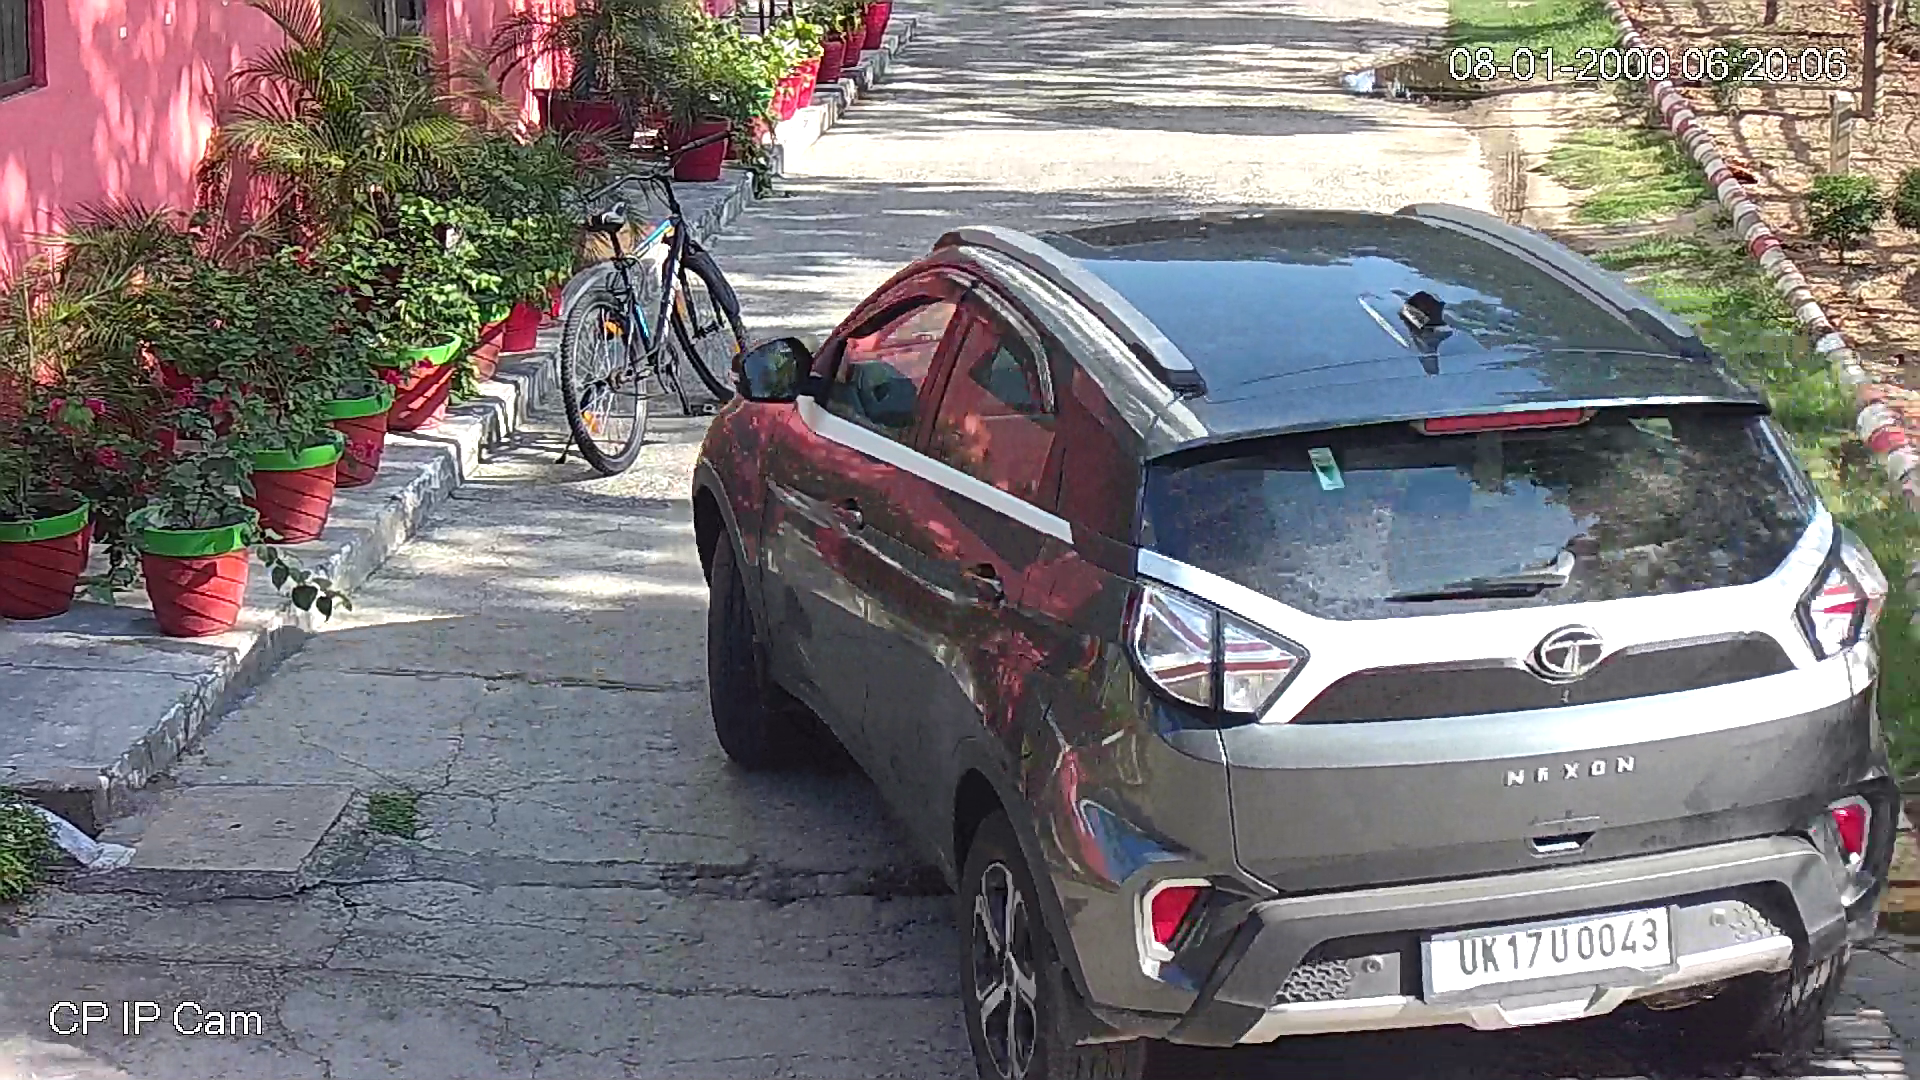plate: (1426, 903, 1677, 994)
